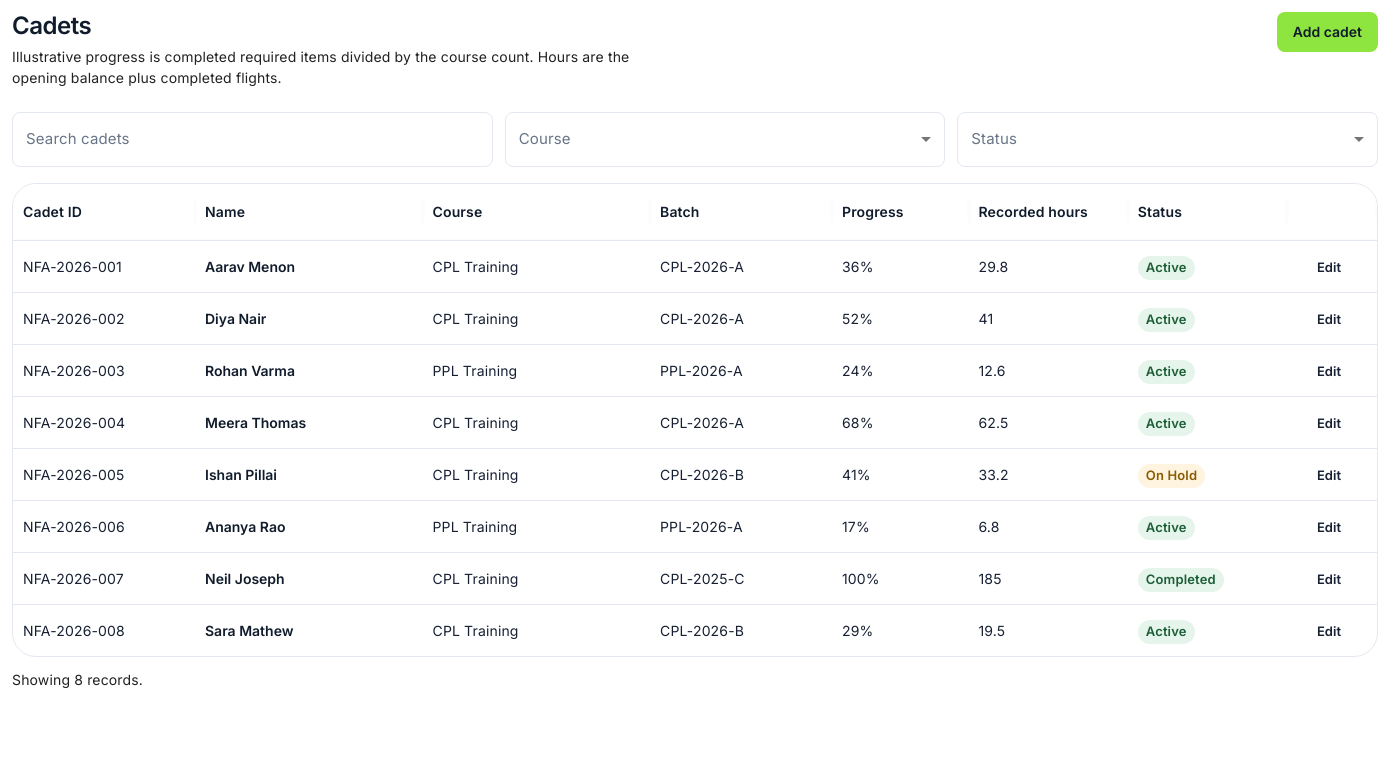
Test: cadet screens › renders the fixture register and filters it
Expected: the text "NFA-2026-001" is shown, 13,240 -> 195,292
Expected: the text "NFA-2026-008" is shown, 13,604 -> 195,656
Type "Diya" into the field labelled "Search cadets" at (252, 139), box 12,112 -> 493,167
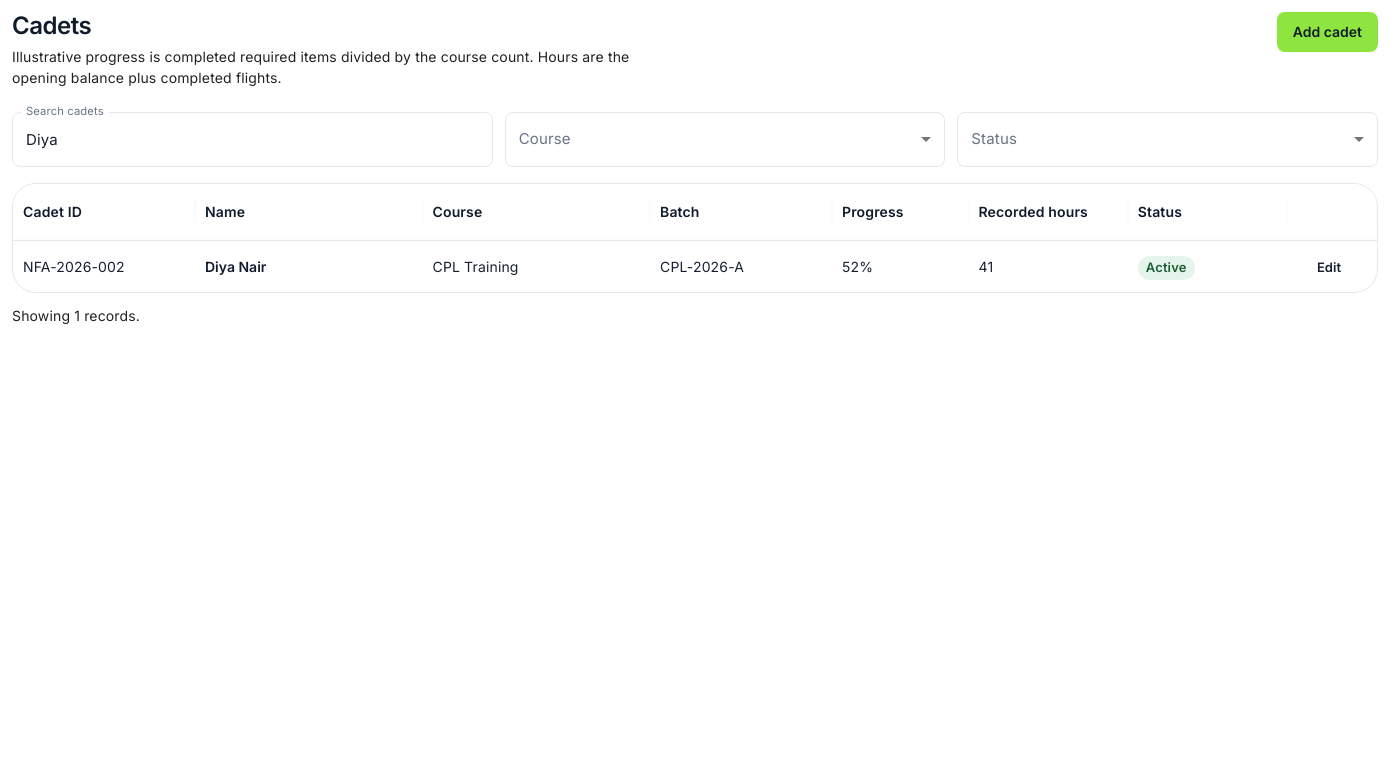
Expected: the text "NFA-2026-002" is shown, 13,240 -> 195,292
Expected: the text "NFA-2026-001" is gone
Clear the field labelled "Search cadets" at (252, 139), box 12,112 -> 493,167
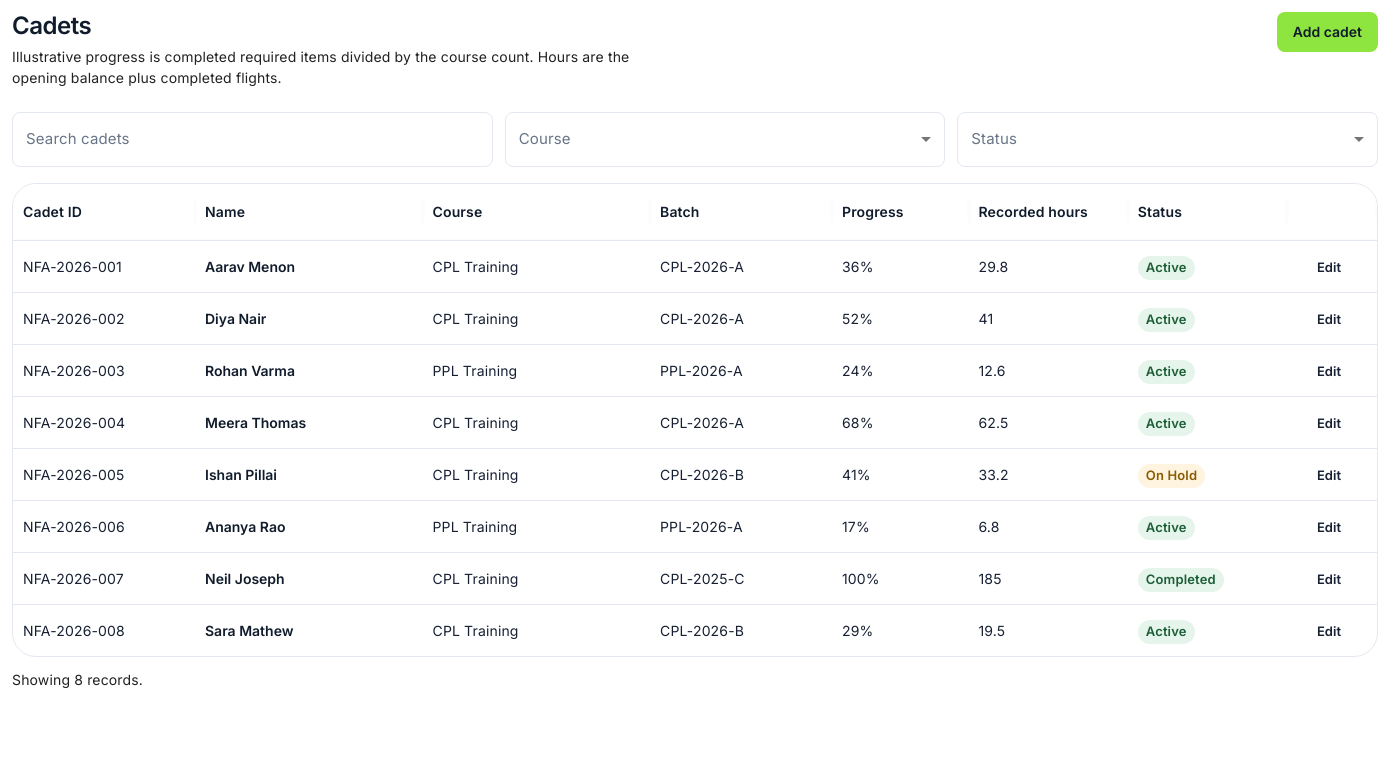
Press the mouse on the 2nd dropdown named "Status" at (1168, 139), box 957,112 -> 1378,167
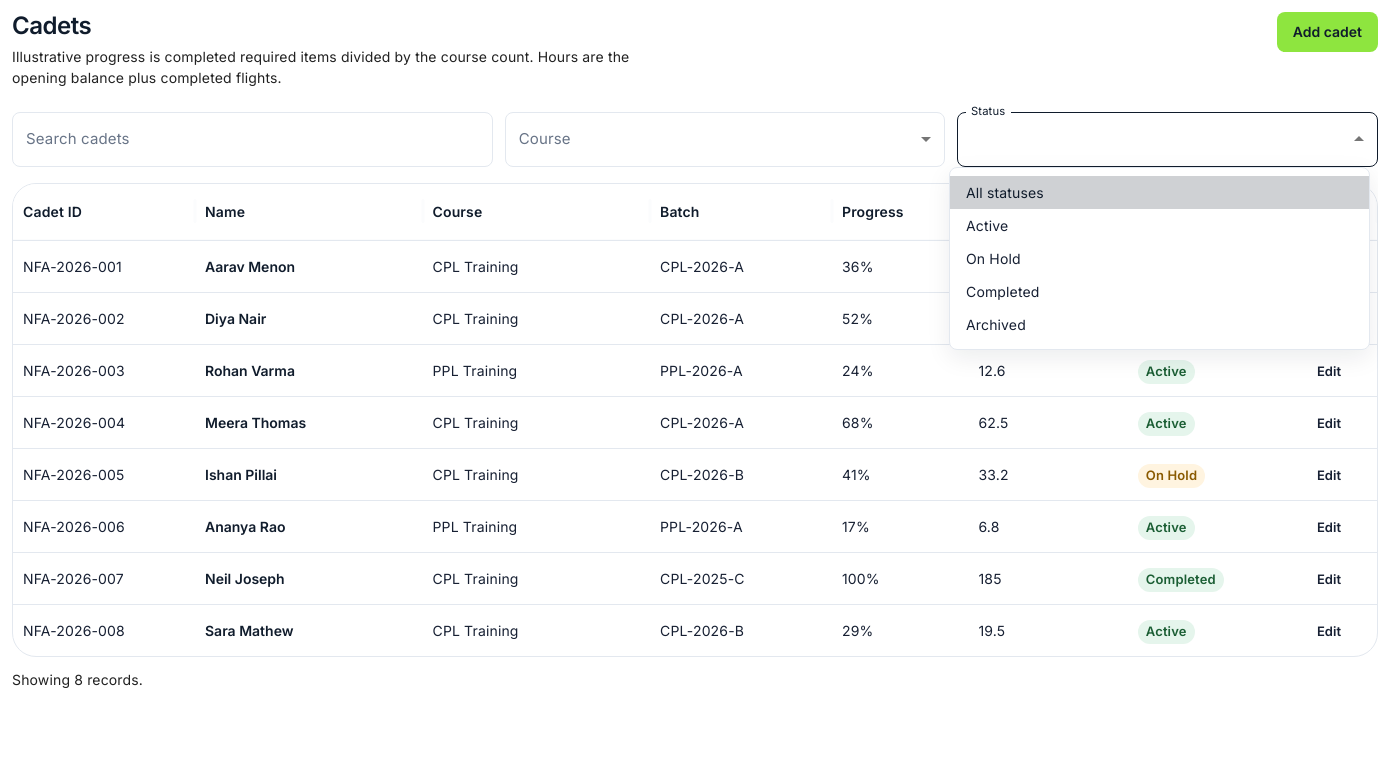
Click the option "On Hold" at (993, 258), box 966,250 -> 1021,267
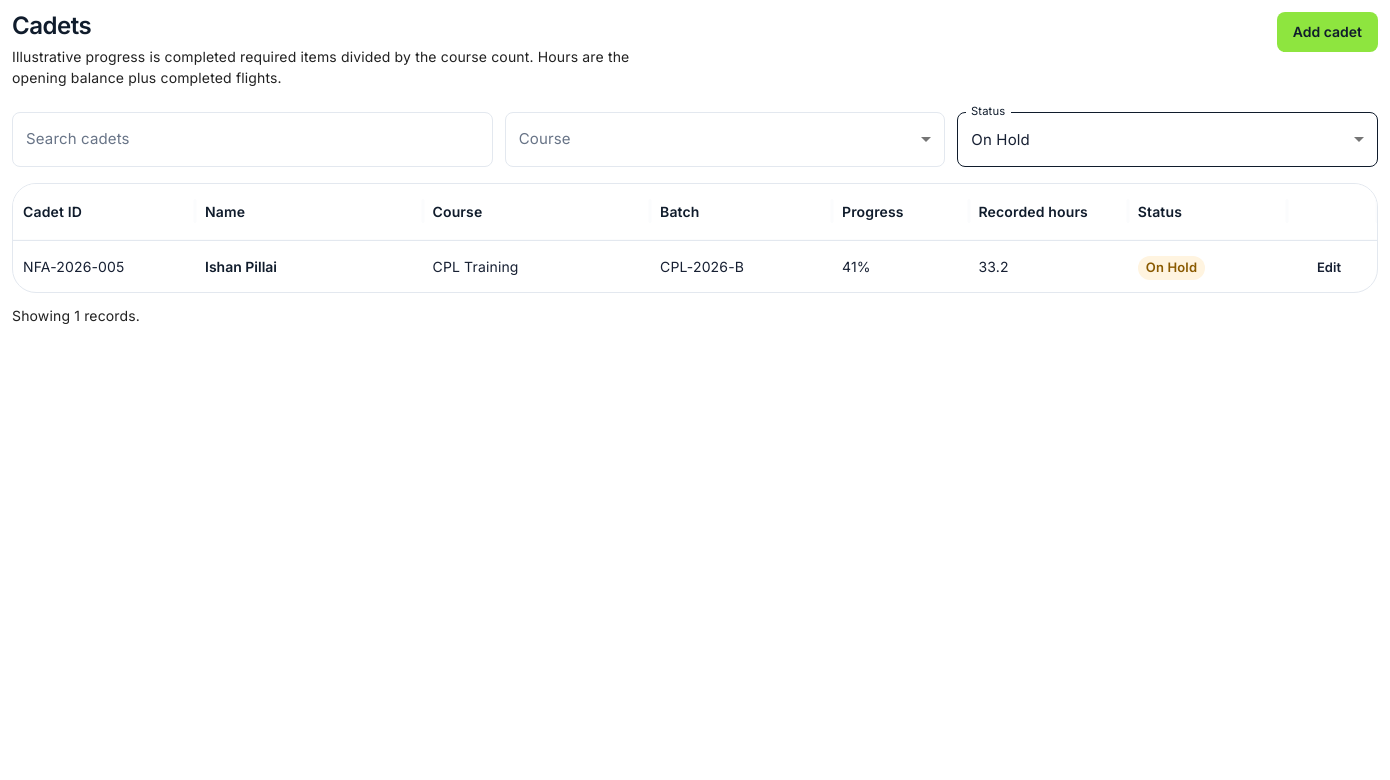
Expected: the link "Ishan Pillai" is shown, 205,258 -> 277,276
Expected: the link "Aarav Menon" is gone
